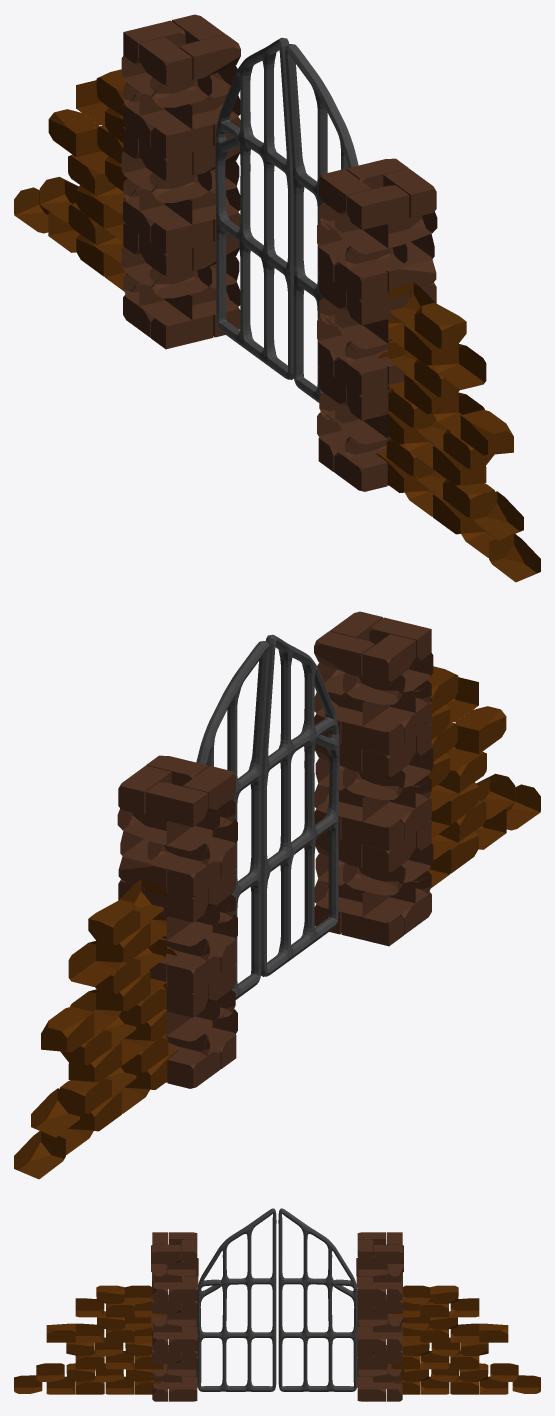
File: lowpolybundlegate1.fbx
3 views of the same model, one above another, from view 1: azimuth 30°, elevation 25°; view 2: azimuth 150°, elevation 25°; view 3: azimuth 270°, elevation 25° (orthographic). The views are drawn at different scales.
Visible parts, largest first — view 1: Plane.216; view 2: Plane.216; view 3: Plane.216.
Part boxes in pixels (x1=…): Plane.216: x1=14, y1=14, x2=540, y2=582; Plane.216: x1=14, y1=611, x2=540, y2=1179; Plane.216: x1=14, y1=1208, x2=540, y2=1401.
Size of the model in its own units: 98.76 by 440 by 1133.
